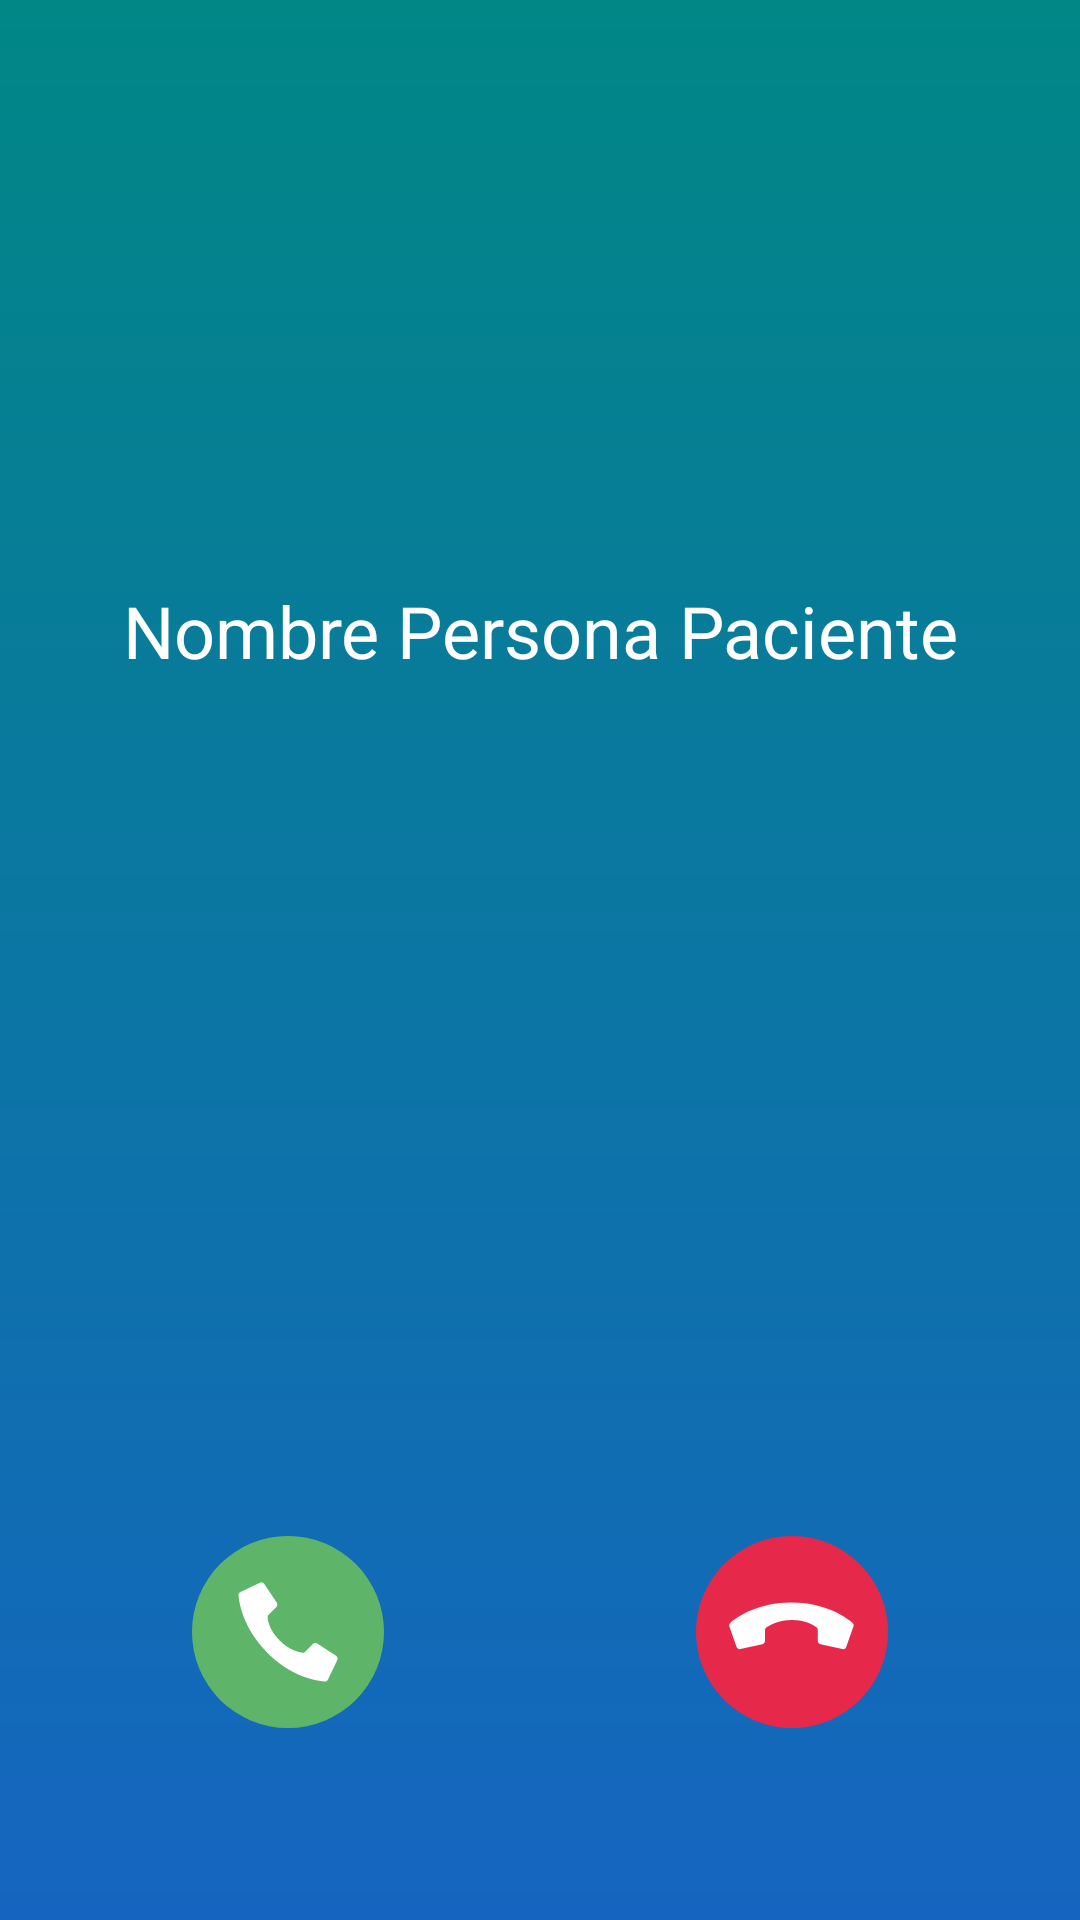

Screen size 1080×1920. Icon name, then its box in pixels as (x1, y1, x2, y2):
answer: (192, 1536, 384, 1728)
